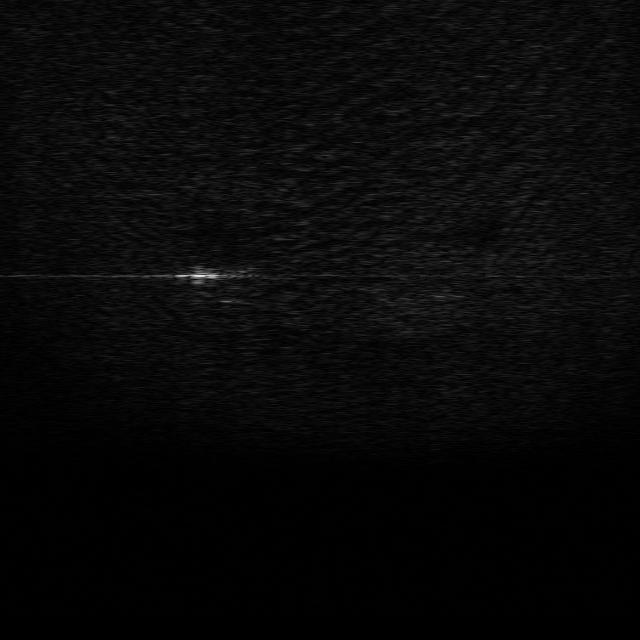plane: (181, 255, 265, 304)
